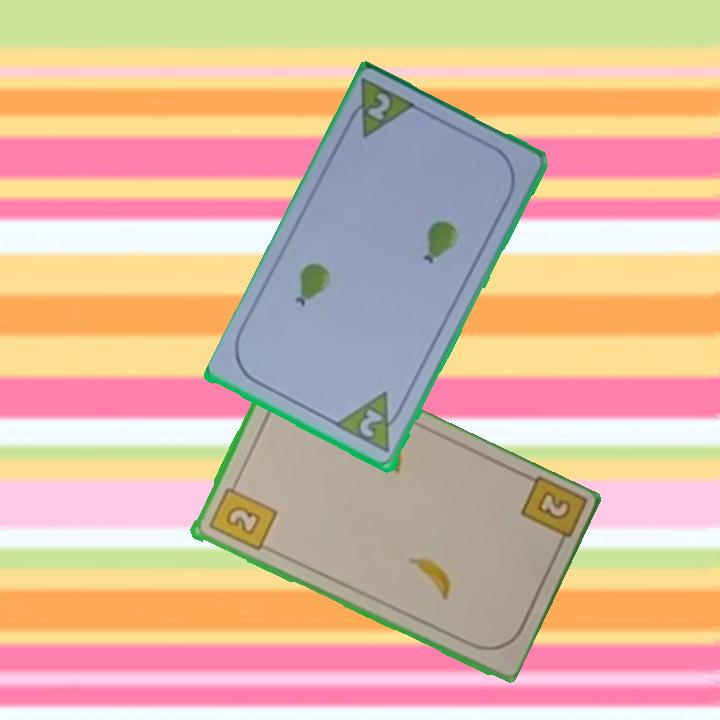2b: (516, 473, 586, 556), (205, 477, 279, 554)
2p: (355, 406, 387, 441), (364, 89, 394, 125)
